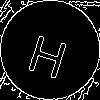H: (25, 25, 73, 80)
